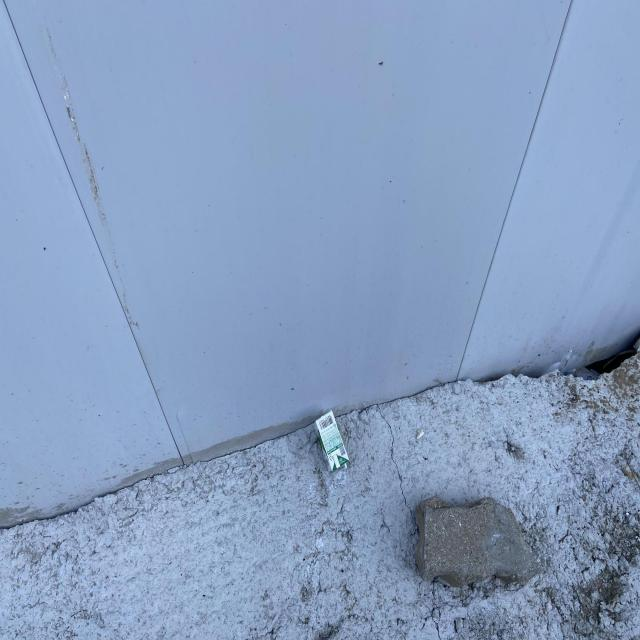paperpack: (314, 411, 349, 472)
